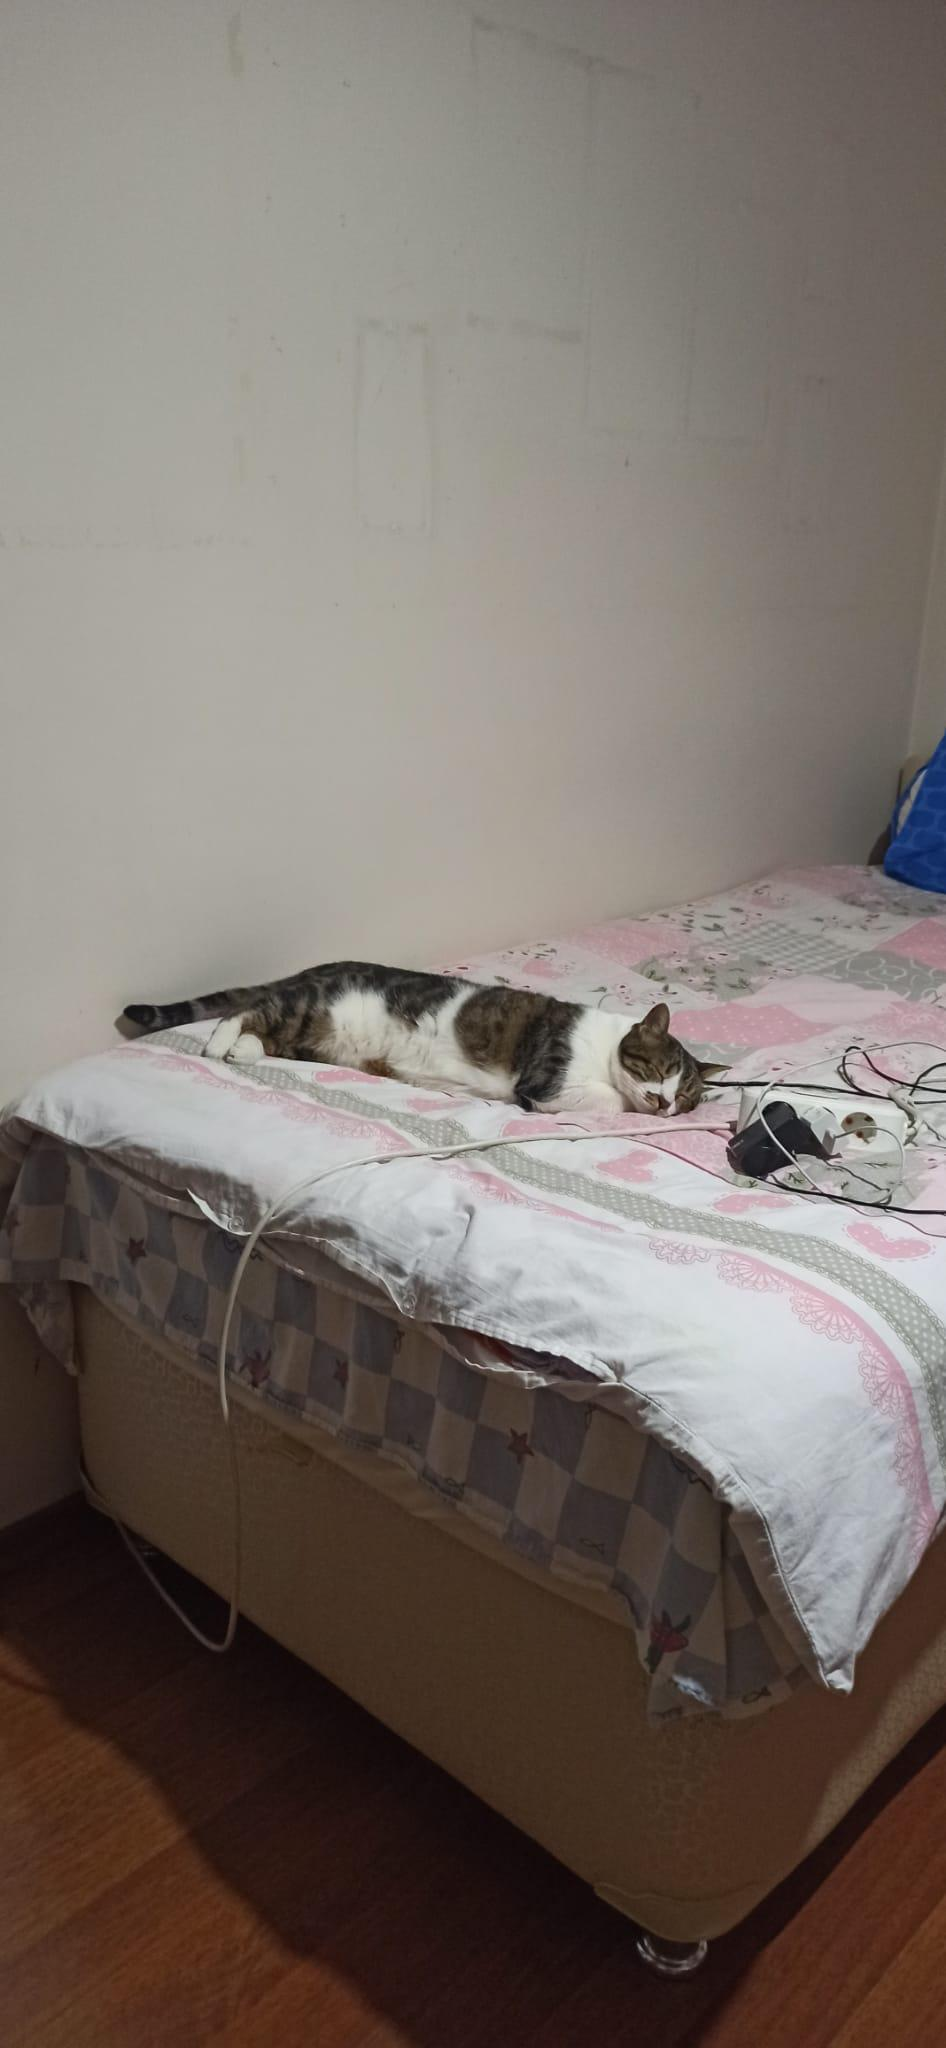kedo: (123, 960, 730, 1118)
